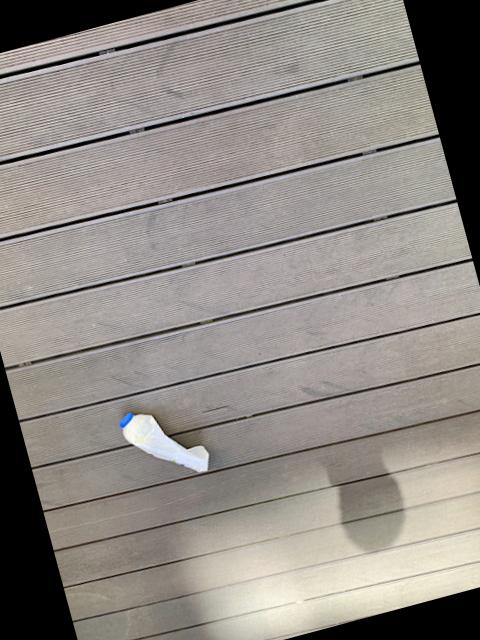plastic: (118, 412, 207, 471)
